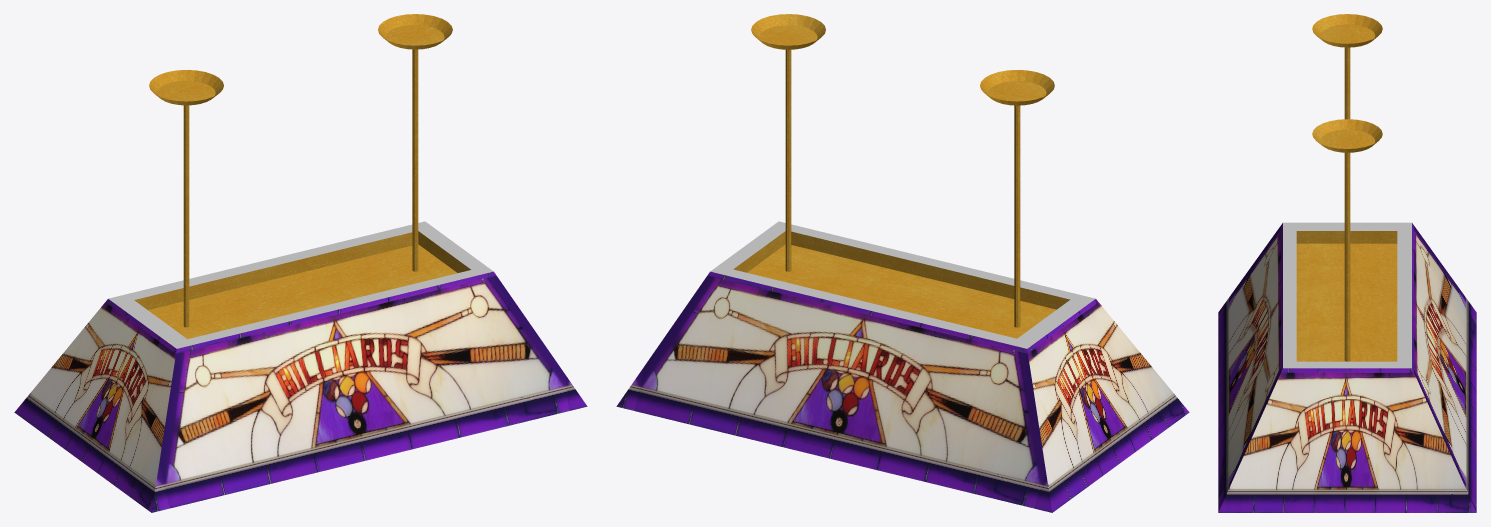
Rendered from P_TableLight.fbx.
The picture shows the model from 3 angles, left to right: view 1: azimuth 30°, elevation 25°; view 2: azimuth 150°, elevation 25°; view 3: azimuth 270°, elevation 25°; orthographic projection. The views are drawn at different scales.
Parts seen in each view (by area): view 1: Empty_Mesh; view 2: Empty_Mesh; view 3: Empty_Mesh.
Boxes of the visible parts, x1=… form: Empty_Mesh: x1=14, y1=14, x2=587, y2=512; Empty_Mesh: x1=616, y1=14, x2=1189, y2=512; Empty_Mesh: x1=1218, y1=14, x2=1476, y2=512.
Bounding box in the file's own units: 1.68 × 1.29 × 0.9144.
